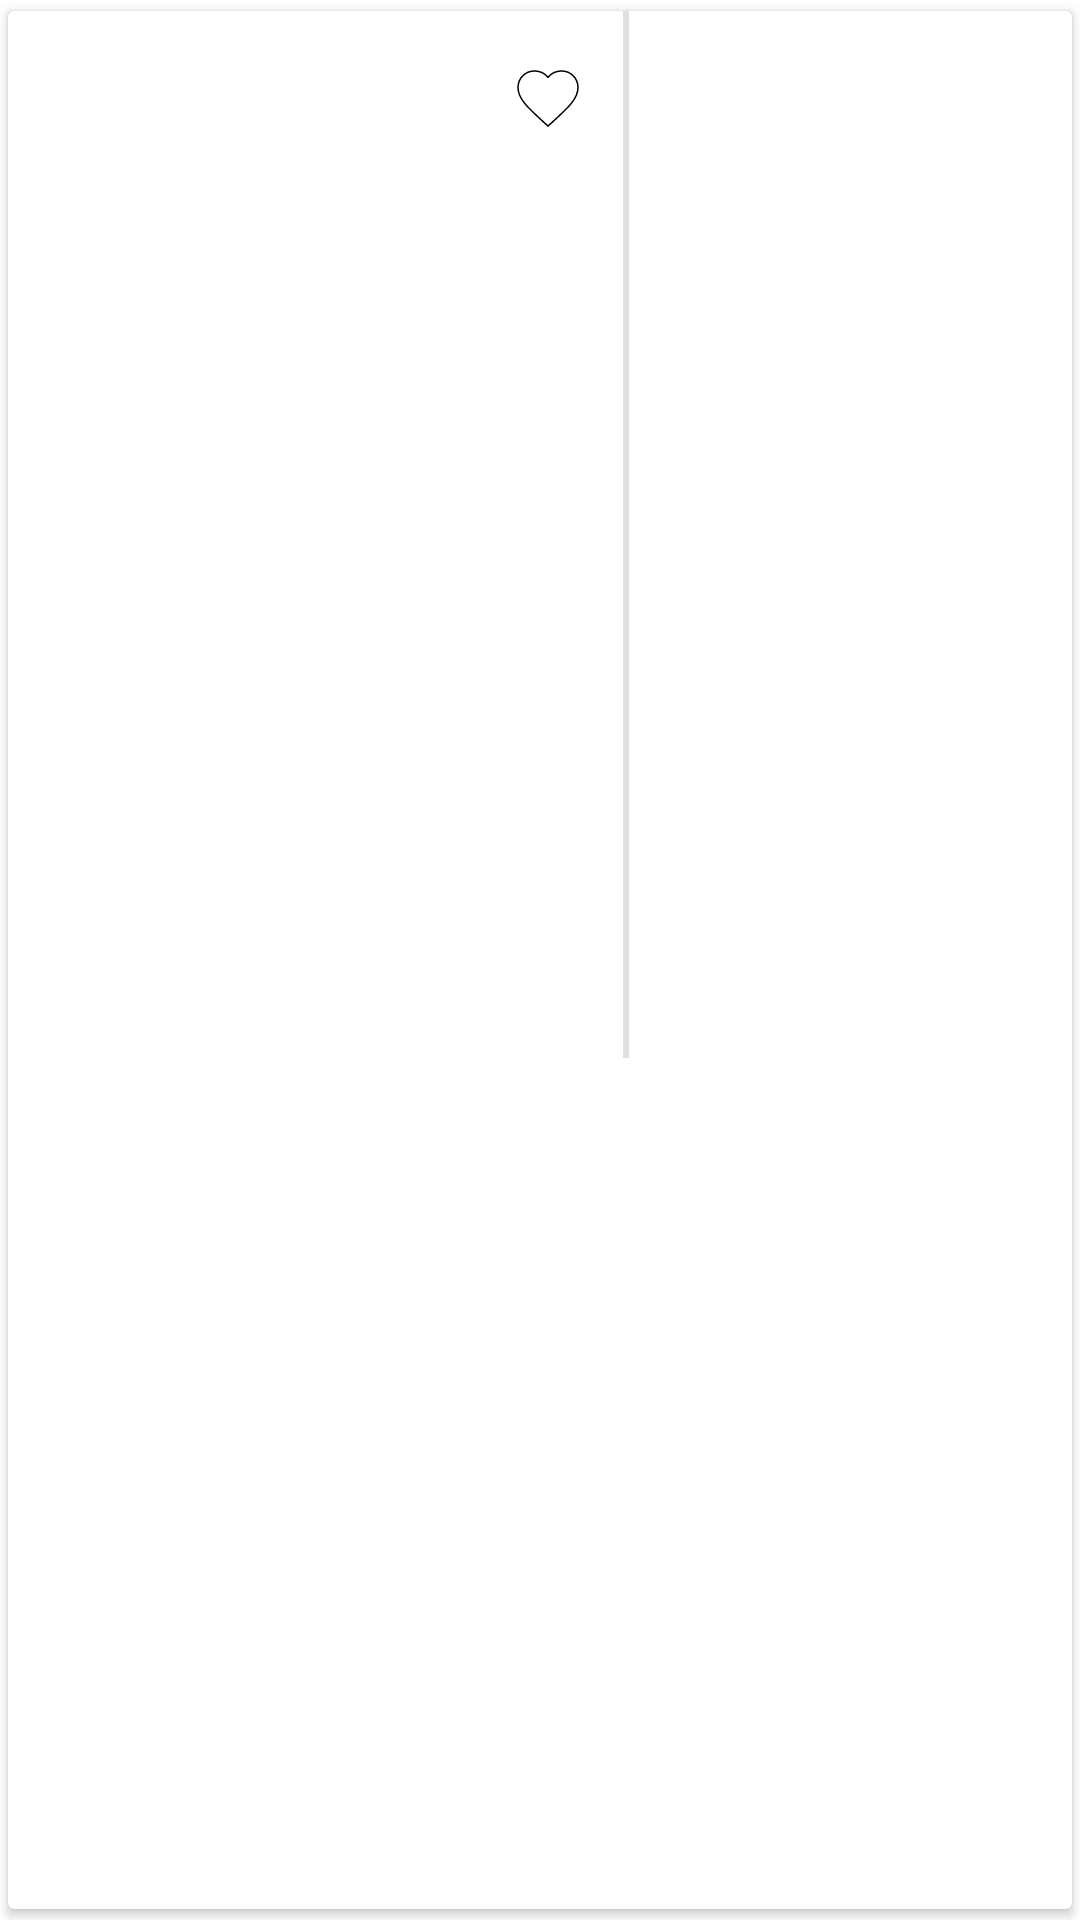

Screen size 1080px x 1920px. Icon name, then its center in pixels as point (x, y):
favorite: point (548, 98)
